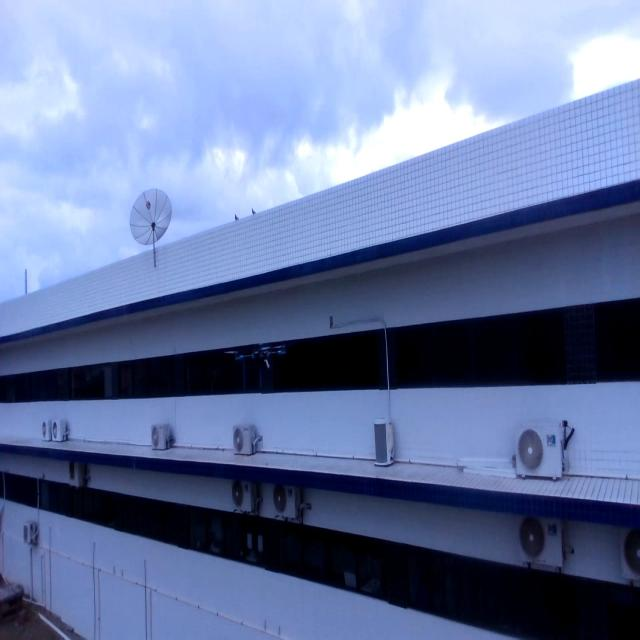-uav-: (218, 330, 292, 403)
